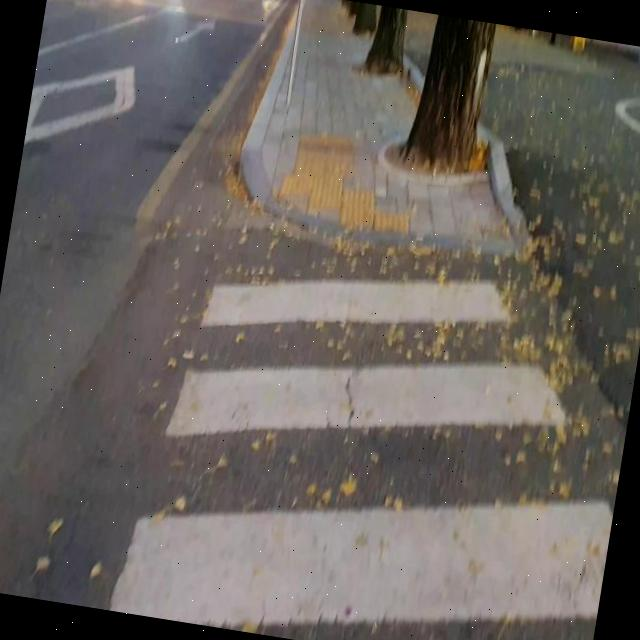crosswalk: (108, 275, 615, 640)
